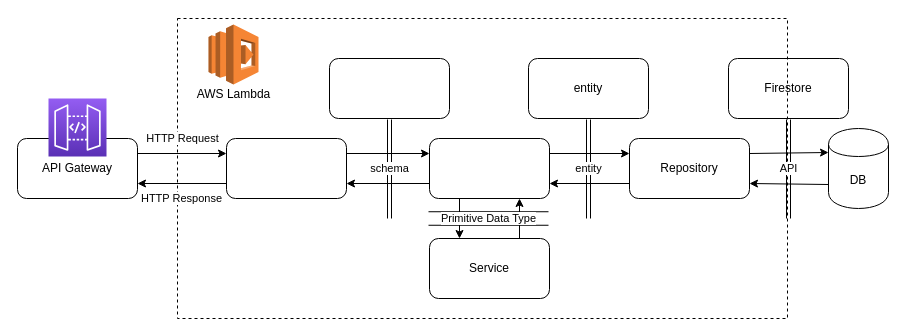
Image size: 906x336. Some labels were removed from this diagram. Here are the shapes that lost their labels. From the top down, the centre of each, then its label:
At point 389,88: "graphql-go".
At point 286,168: "Handler".
At point 489,168: "Resolver".
